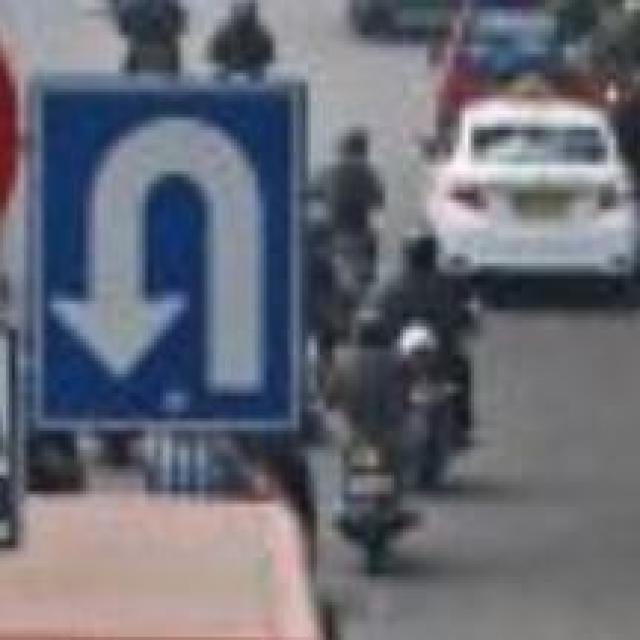U-turn: (34, 78, 295, 426)
